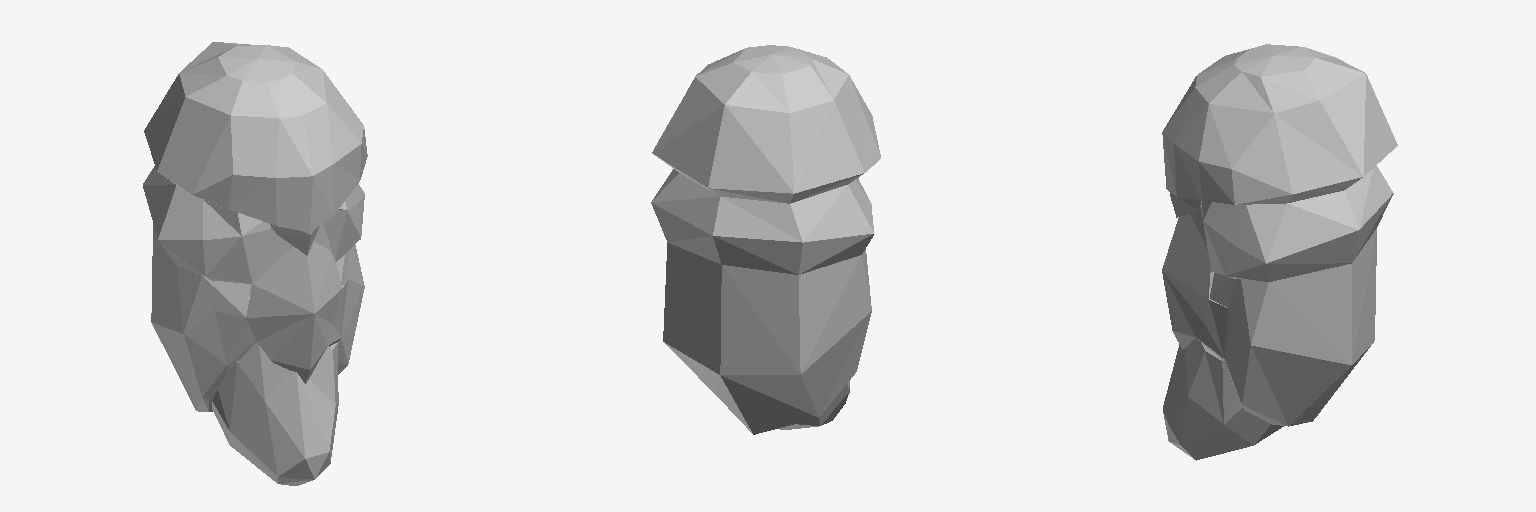
The picture shows the model from 3 angles: view 1: azimuth 30°, elevation 25°; view 2: azimuth 150°, elevation 25°; view 3: azimuth 270°, elevation 25°; orthographic projection.
Visible parts, largest first — view 1: skin_colShape_wgscol_collmesh; view 2: skin_colShape_wgscol_collmesh; view 3: skin_colShape_wgscol_collmesh.
Part boxes in pixels (bbox=[...]): skin_colShape_wgscol_collmesh: bbox=[143, 42, 367, 485]; skin_colShape_wgscol_collmesh: bbox=[651, 45, 880, 434]; skin_colShape_wgscol_collmesh: bbox=[1162, 44, 1397, 460].
Bounding box in the file's own units: 3.28 × 6.12 × 3.28.